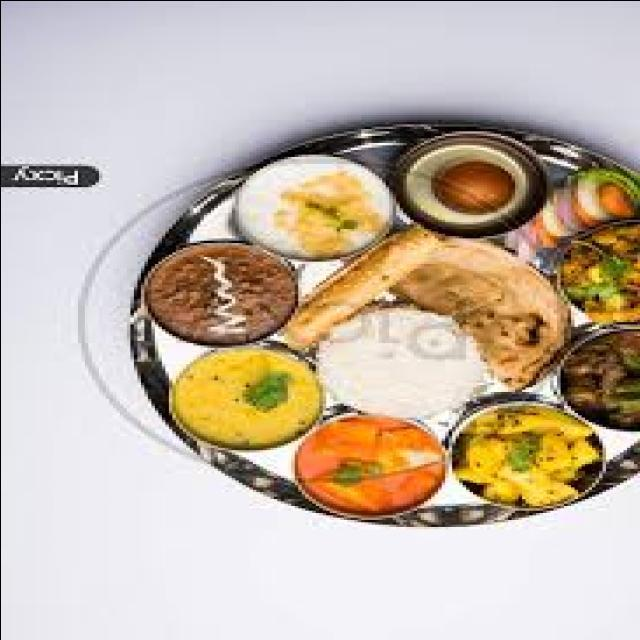curd: (223, 149, 394, 261)
dal: (158, 348, 327, 450)
raita: (225, 156, 391, 259)
rice: (316, 311, 480, 419)
roti: (295, 228, 563, 381)
sweet: (392, 146, 548, 228)
veg-fry: (275, 409, 461, 521)
